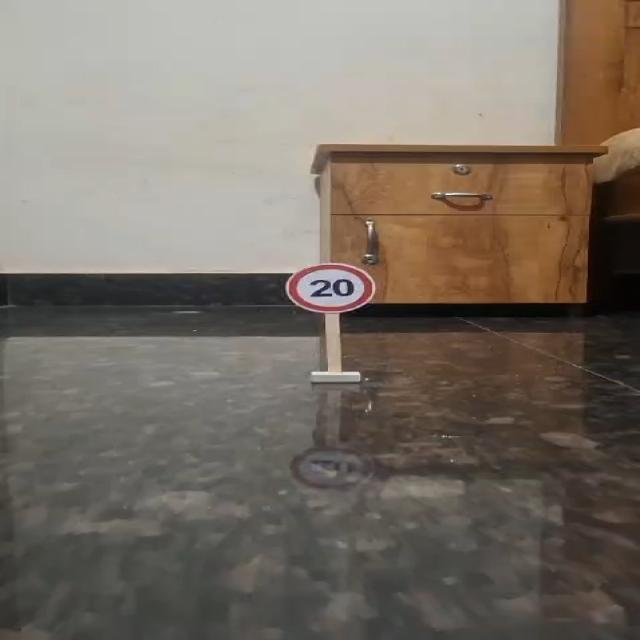Speed20: (276, 258, 383, 318)
